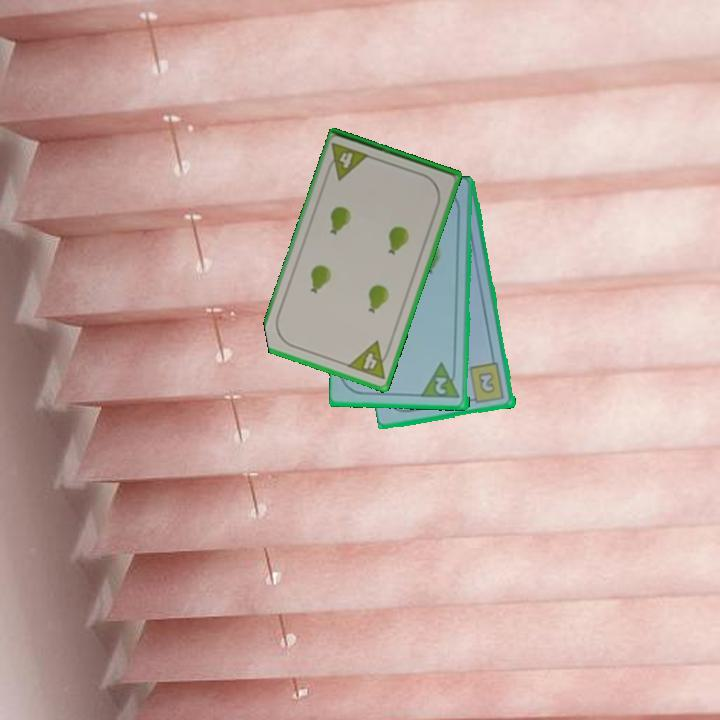2b: (465, 360, 507, 406)
2p: (420, 360, 463, 401)
4p: (344, 338, 394, 383), (322, 139, 373, 183)
